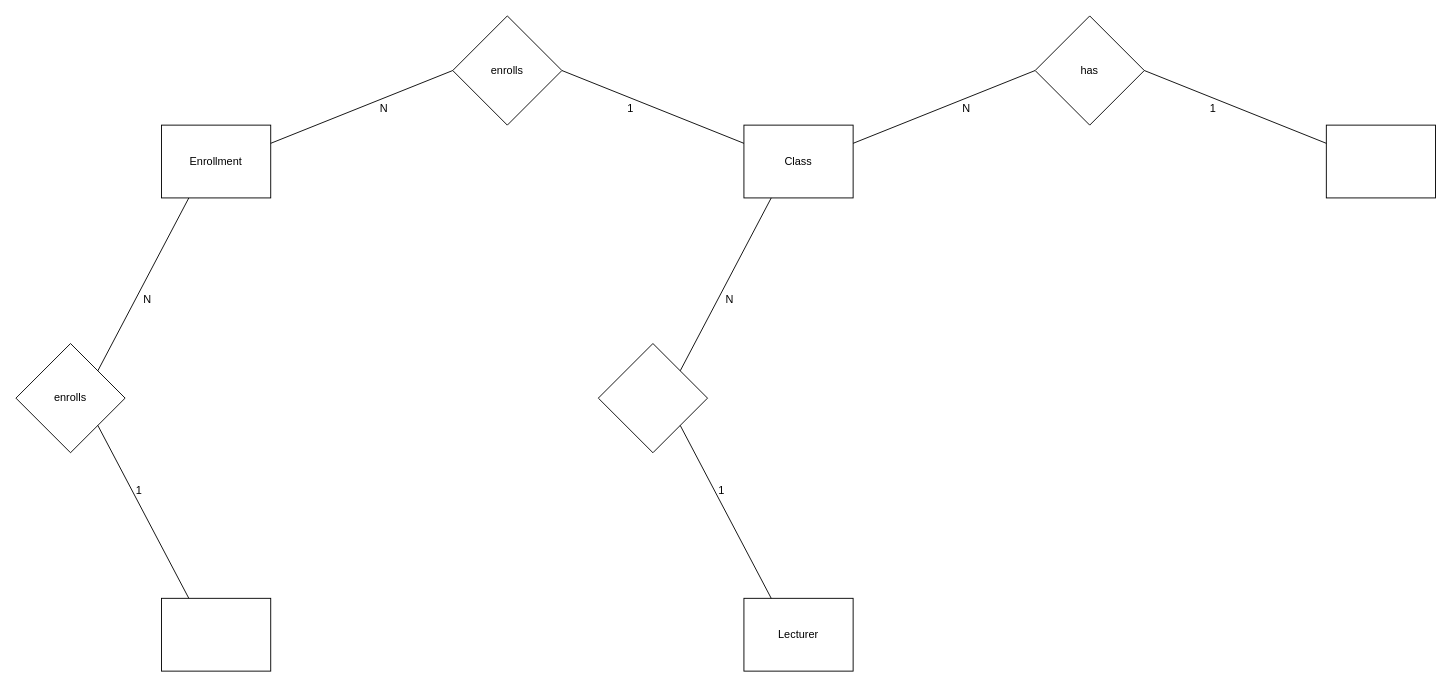
Image size: 1451x687. Some labels were removed from this diagram. The box of each missing label's shape, as (x1, y1, x2, y2) in pixels:
Course: (1325, 124, 1436, 198)
Student: (161, 597, 271, 671)
teaches: (597, 343, 708, 453)
